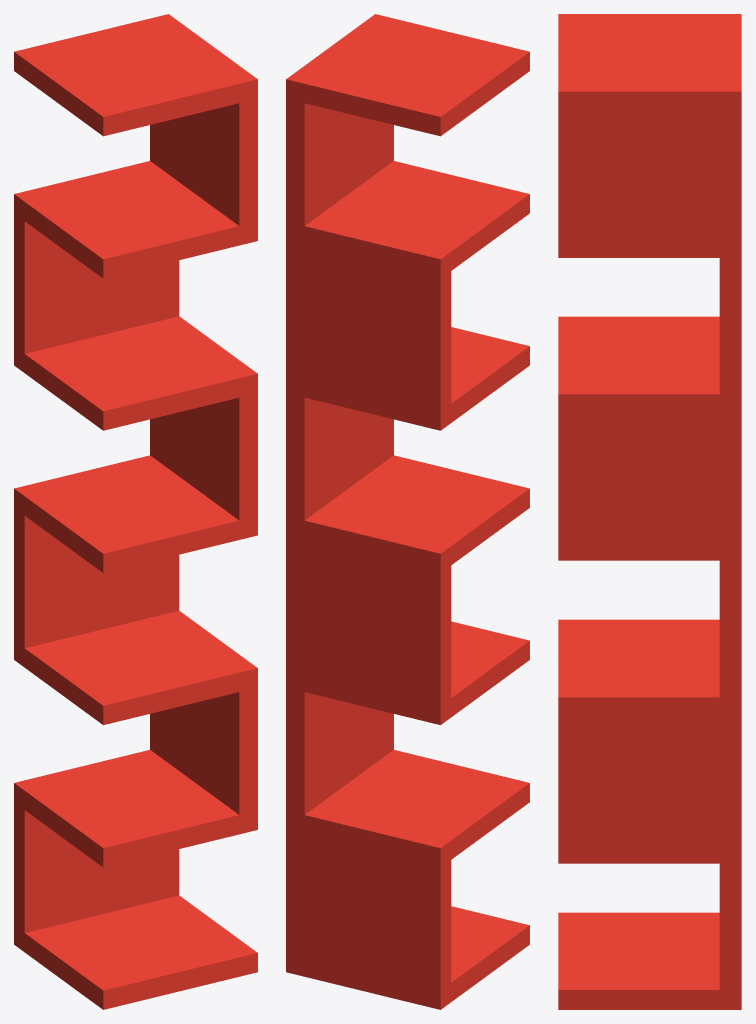
Rendered from shelf_035.glb.
3 renders of one model, left to right at view 1: azimuth 30°, elevation 25°; view 2: azimuth 150°, elevation 25°; view 3: azimuth 270°, elevation 25°, orthographic. The views are drawn at different scales.
Visible parts, largest first — view 1: shelf_035; view 2: shelf_035; view 3: shelf_035.
Boxes of the visible parts, x1=… form: shelf_035: x1=14, y1=14, x2=257, y2=1009; shelf_035: x1=286, y1=14, x2=529, y2=1009; shelf_035: x1=558, y1=14, x2=741, y2=1009.
Bounding box in the file's own units: 0.3729 × 2.06 × 0.3729.
1 material, 1 textured.
